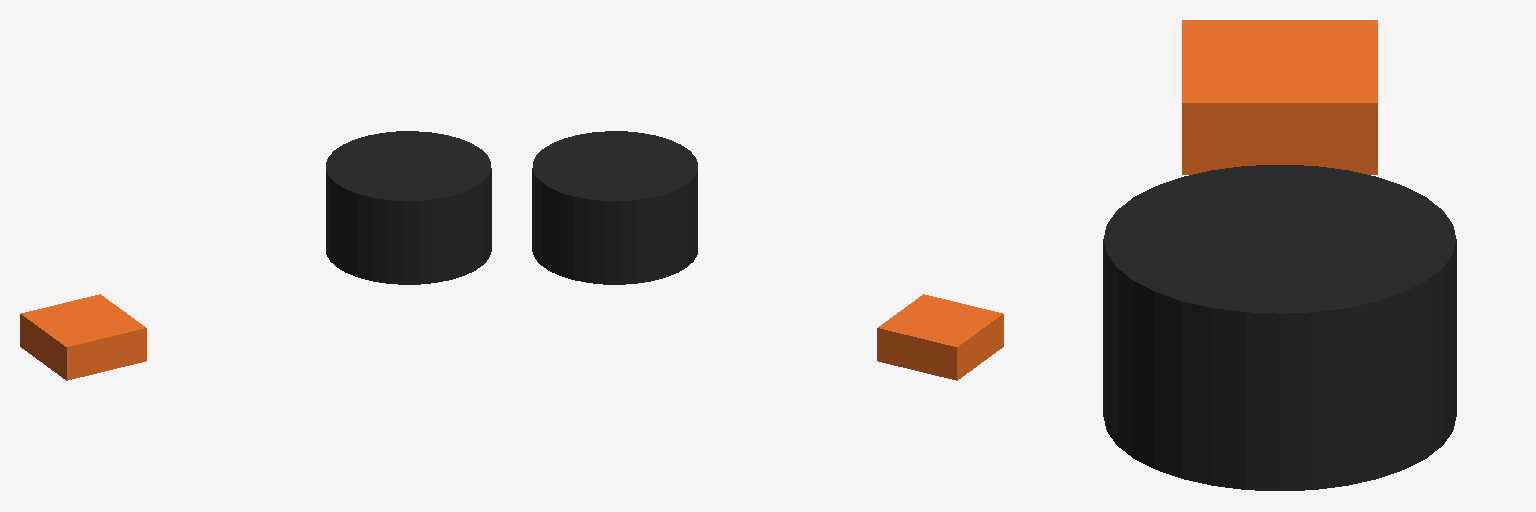
robot.urdf — roboyRickshaw3d:
<robot name="roboyRickshaw3d">
  <material name="orange">
    <color rgba="1.0 0.5 0.2 1" />
  </material>
  <material name="gray">
    <color rgba="0.2 0.2 0.2 1" />
  </material>

  <link name="livox_frame">
    <visual>
      <origin xyz="0 0 0" />
      <geometry>
        <cylinder length="0.05" radius="0.045" />
      </geometry>
      <material name="gray" />
    </visual>
  </link>

  <link name="imu">
    <visual>
      <origin xyz="0 0 0" />
      <geometry>
        <box size="0.05 0.05 0.02" />
      </geometry>
      <material name="orange" />
    </visual>
  </link>

  <link name="base_link" />
  

  <joint name="laser_joint" type="fixed">
    <parent link="imu" />
    <child link="livox_frame" />
    <origin xyz="0.20335 0.0 0.030"/>
  </joint>

  
<!--
  <joint name="laser_joint" type="fixed">
    <parent link="base_link" />
    <child link="livox_frame" />
    <origin xyz="0.021 0.0 1.5567" rpy="0 0 0"/>
  </joint>
-->

  <joint name="imu_joint" type="fixed">
    <parent link="base_link" />
    <child link="imu" />
    <origin xyz="0 0 0"/>
  </joint>

</robot>

--- Render facts (derived) ---
The picture shows the robot from 3 angles, left to right: view 1: azimuth 30°, elevation 25°; view 2: azimuth 150°, elevation 25°; view 3: azimuth 270°, elevation 25°; orthographic projection.
Robot: roboyRickshaw3d — 3 links, 2 joints (2 fixed); root link base_link; default pose: every joint at zero.
Visible links, largest first — view 1: livox_frame, imu; view 2: livox_frame, imu; view 3: livox_frame, imu.
Link boxes in pixels (left/top/right/bottom): livox_frame: left=326, top=131, right=491, bottom=284; imu: left=20, top=294, right=146, bottom=380; livox_frame: left=532, top=131, right=697, bottom=284; imu: left=877, top=294, right=1003, bottom=380; livox_frame: left=1103, top=165, right=1456, bottom=490; imu: left=1182, top=20, right=1377, bottom=174.
Bounding box of the posed robot: 0.2734 × 0.09 × 0.065 m (x, y, z).
Geometry: primitives only (box / cylinder / sphere), no mesh files.